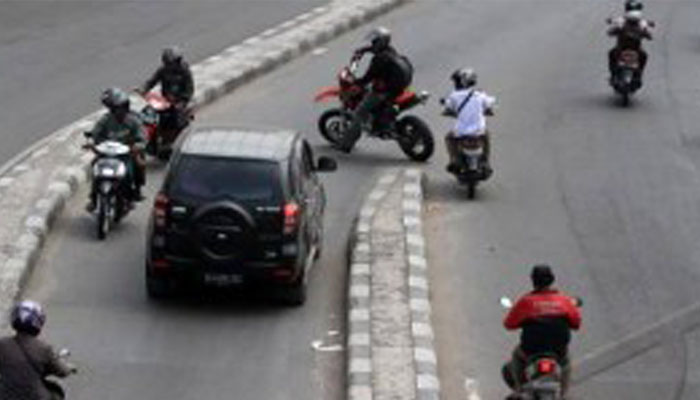car: (148, 119, 327, 308)
motorbike: (318, 25, 433, 163), (500, 262, 578, 400), (91, 88, 145, 245), (444, 68, 496, 207), (135, 56, 193, 161), (607, 2, 649, 114)
